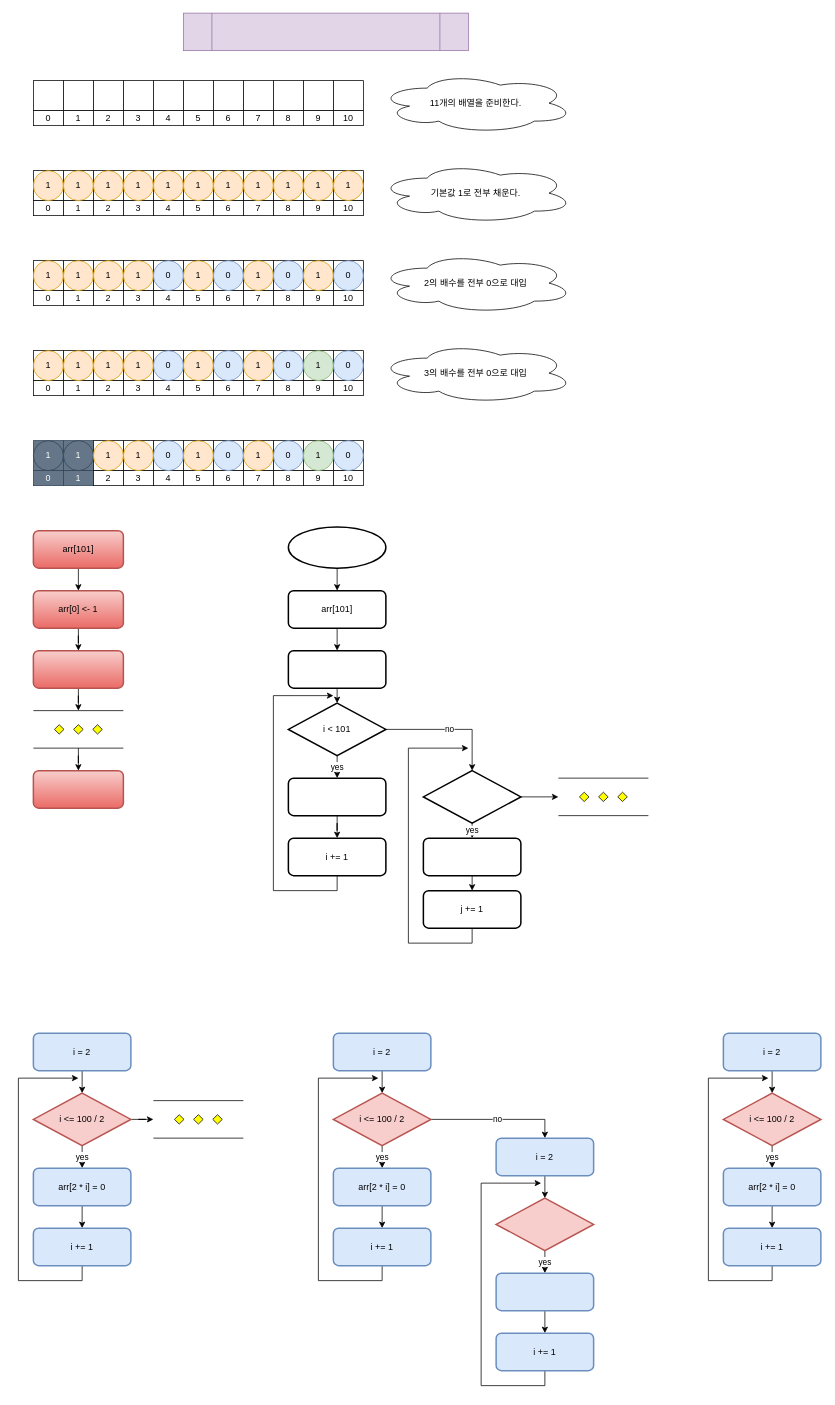
Image size: 835x1405. Some labels were removed from this diagram. The centre of each missing label's shape, as x and y in pixels:
arr[101] <- 1: (x=78, y=789)
arr[1] <- 1: (x=78, y=669)
arr[3 * i] = 0: (x=544, y=1291)
arr[i] <- 0: (x=471, y=856)
arr[i] <- 1: (x=336, y=796)
i <= 100 / 3: (x=544, y=1224)
i = 0: (x=336, y=669)
j % 2 == 0: (x=471, y=797)
Sieve of Eratosthenes: (x=325, y=31)
Start: (x=336, y=547)
